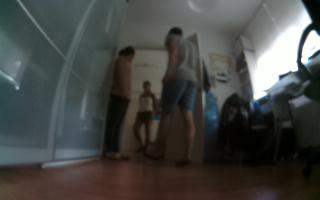person: (146, 22, 200, 165), (96, 40, 134, 163), (130, 75, 159, 157)
